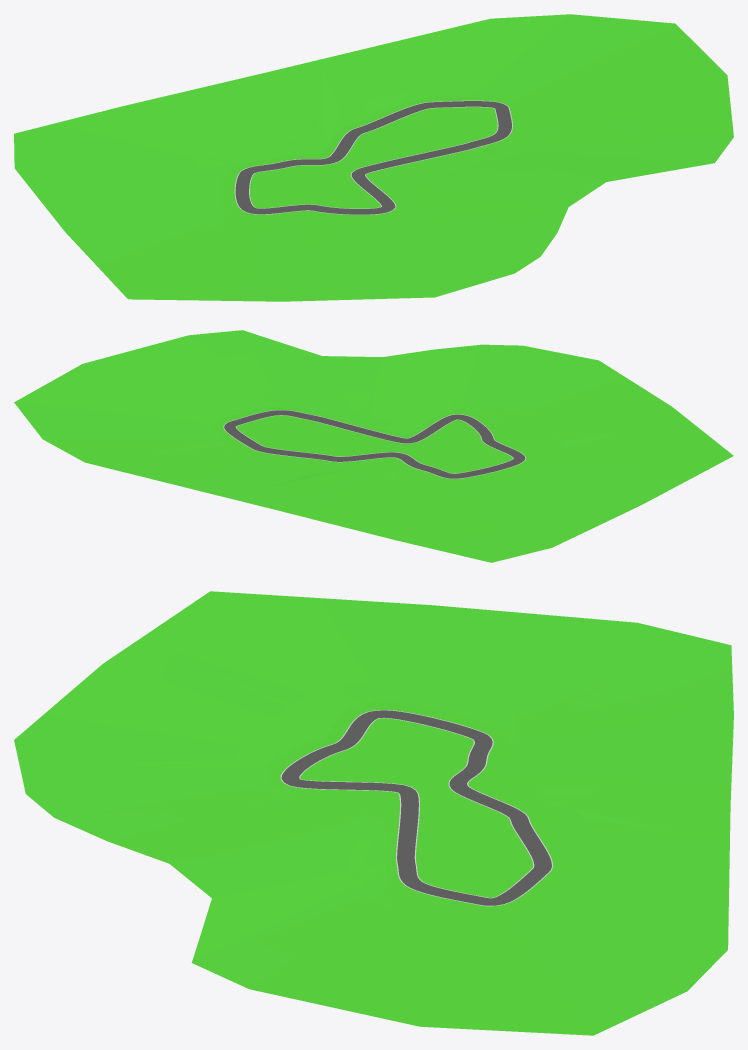
File: world1.glb
The picture shows the model from 3 angles, top to bottom: view 1: azimuth 30°, elevation 25°; view 2: azimuth 150°, elevation 25°; view 3: azimuth 270°, elevation 25°; orthographic projection. The views are drawn at different scales.
Visible parts, largest first — view 1: Grass-col, TuIdeTrava-col, Road-col; view 2: Grass-col, TuIdeTrava-col, Road-col; view 3: Grass-col, TuIdeTrava-col, Road-col.
Boxes of the visible parts, box(x1,y1,x2,y2) form: Grass-col: box(14, 14, 733, 301); TuIdeTrava-col: box(190, 85, 551, 236); Road-col: box(234, 100, 512, 214); Grass-col: box(14, 330, 733, 562); TuIdeTrava-col: box(191, 396, 571, 495); Road-col: box(223, 410, 525, 478); Grass-col: box(14, 591, 733, 1035); TuIdeTrava-col: box(232, 681, 596, 925); Road-col: box(280, 710, 552, 906).
Bounding box in the file's own units: 562 × 2.09 × 385.
